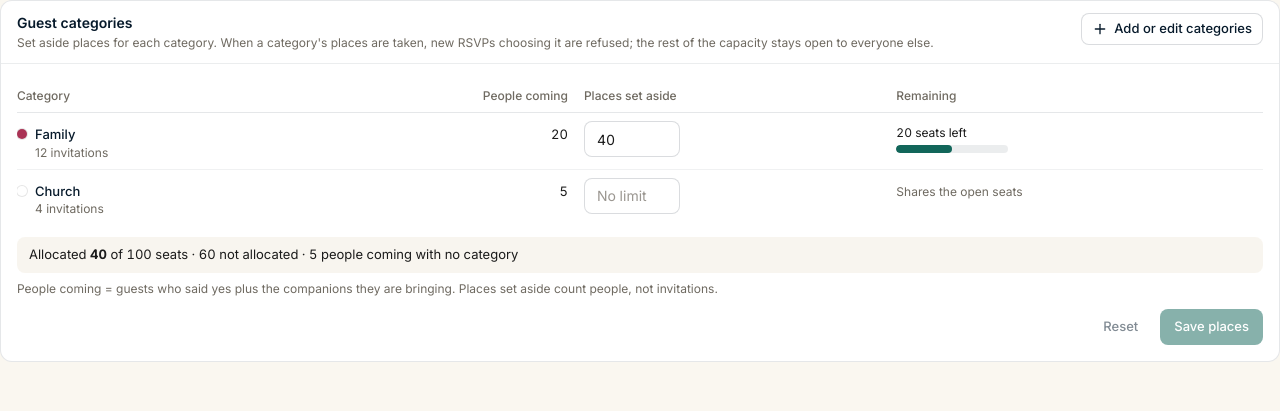
Test: CategoryAllocations › will not go below the people already coming in a category
Replace the text in the number field named "Places set aside for Family" with "10" at [632, 139], box [584,121,680,157]
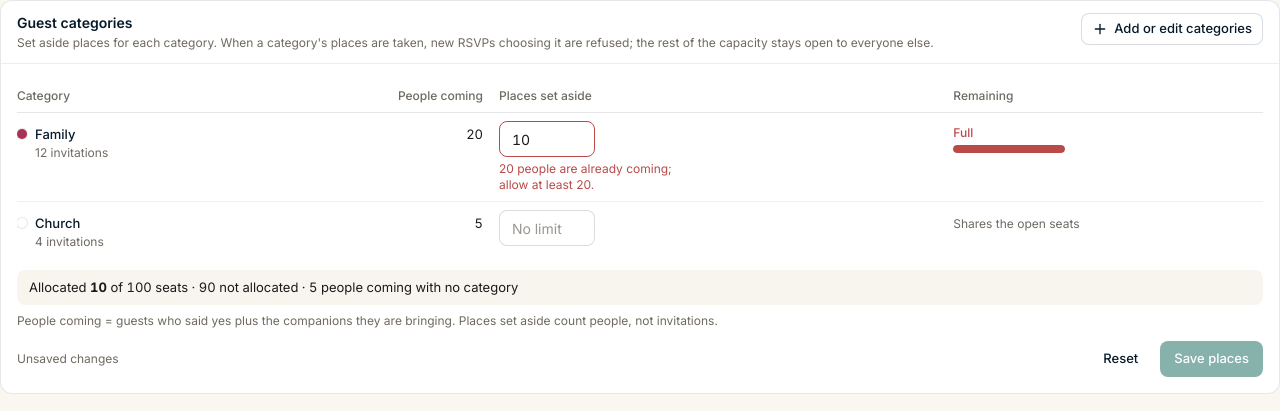
Expected: the button "Save places" is disabled, [1160,341,1263,377]
Now the text "20 people are already coming; allow at least 20." is shown, box [499,161,675,193]
